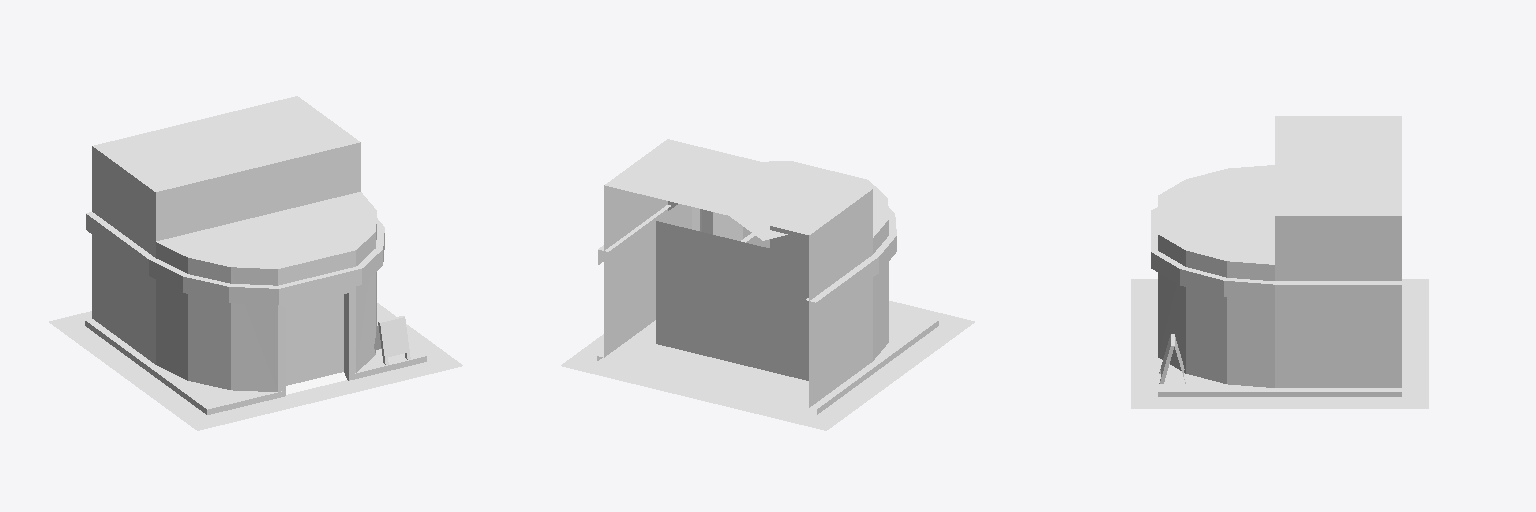
Rendered from Shop.obj.
3 views of the same model, side by side, from view 1: azimuth 30°, elevation 25°; view 2: azimuth 150°, elevation 25°; view 3: azimuth 270°, elevation 25° (orthographic).
Parts seen in each view (by area): view 1: polygon11.005, polygon8.020, polygon7.021, polygon9.015, polygon4.036, polygon3.045, polygon6.024, polygon10.014; view 2: polygon8.020, polygon7.021, polygon4.036, polygon9.015, polygon11.005, polygon2.083, polygon6.024; view 3: polygon8.020, polygon11.005, polygon7.021, polygon4.036, polygon9.015, polygon6.024.
Part boxes in pixels (bbox=[...]): polygon11.005: bbox=[156, 194, 376, 391]; polygon8.020: bbox=[85, 151, 426, 414]; polygon7.021: bbox=[93, 96, 410, 364]; polygon9.015: bbox=[86, 192, 384, 391]; polygon4.036: bbox=[49, 303, 462, 430]; polygon3.045: bbox=[286, 297, 338, 379]; polygon6.024: bbox=[92, 142, 360, 199]; polygon10.014: bbox=[286, 293, 406, 385]; polygon8.020: bbox=[597, 188, 938, 414]; polygon7.021: bbox=[605, 139, 871, 234]; polygon4.036: bbox=[561, 301, 974, 430]; polygon9.015: bbox=[598, 161, 896, 318]; polygon11.005: bbox=[692, 166, 888, 360]; polygon2.083: bbox=[770, 226, 808, 257]; polygon6.024: bbox=[604, 185, 872, 243]; polygon8.020: bbox=[1158, 224, 1401, 396]; polygon11.005: bbox=[1158, 170, 1274, 387]; polygon7.021: bbox=[1159, 116, 1401, 383]; polygon4.036: bbox=[1131, 279, 1428, 408]; polygon9.015: bbox=[1151, 165, 1401, 300]; polygon6.024: bbox=[1275, 216, 1401, 223].
Bounding box in the file's own units: 17 × 11 × 16.5.